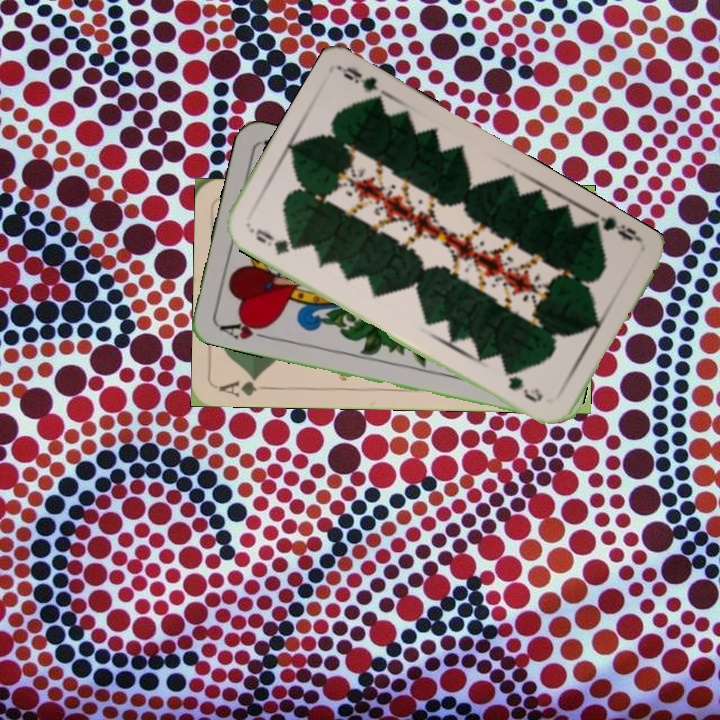G9: (586, 209, 645, 245), (245, 224, 303, 258)
GA: (216, 372, 275, 399)
HA: (215, 315, 274, 342)
